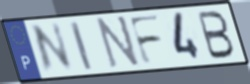4: (171, 10, 205, 64)
B: (196, 10, 237, 61)
F: (127, 14, 165, 67)
I: (67, 20, 95, 72)
N: (95, 14, 142, 70), (30, 21, 75, 76)
